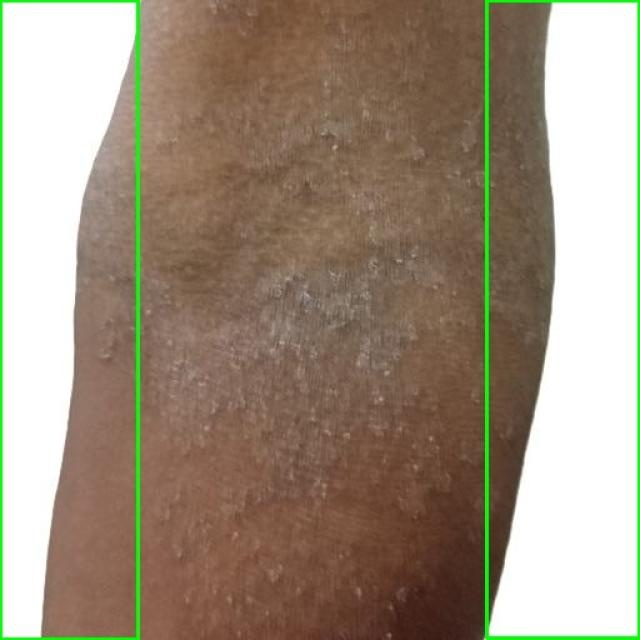Eczema: (486, 0, 639, 639), (0, 0, 138, 639)
